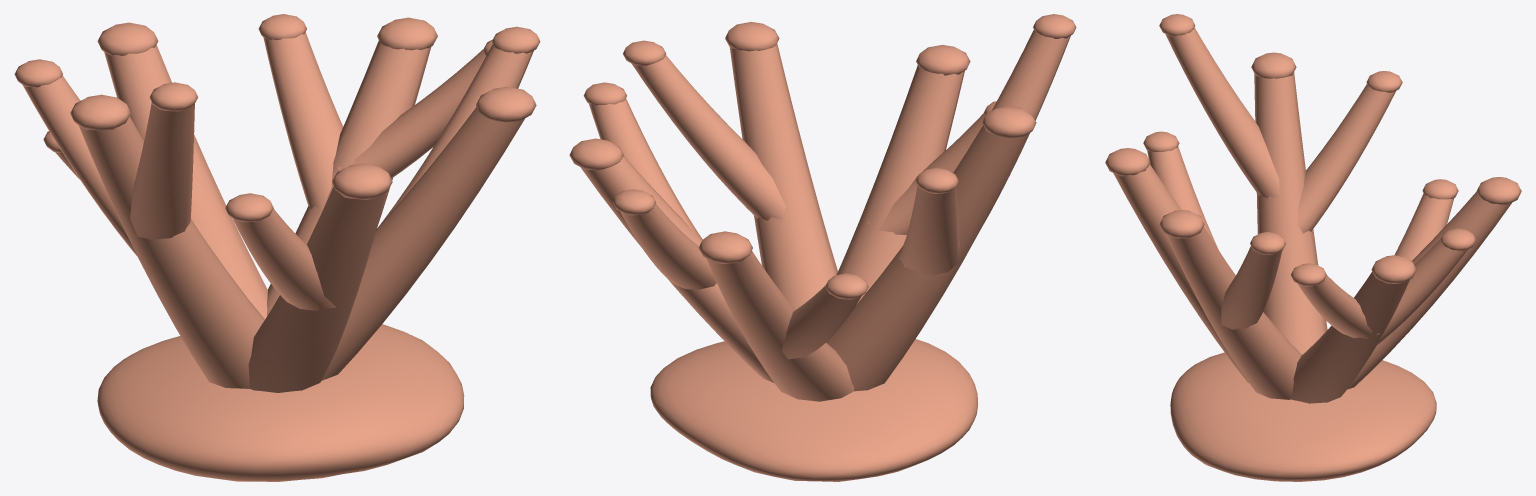
Rendered from coral.glb.
3 views of the same model, side by side, from view 1: azimuth 30°, elevation 25°; view 2: azimuth 150°, elevation 25°; view 3: azimuth 270°, elevation 25° (orthographic). The views are drawn at different scales.
Size of the model in its own units: 0.913 by 0.792 by 0.887.
